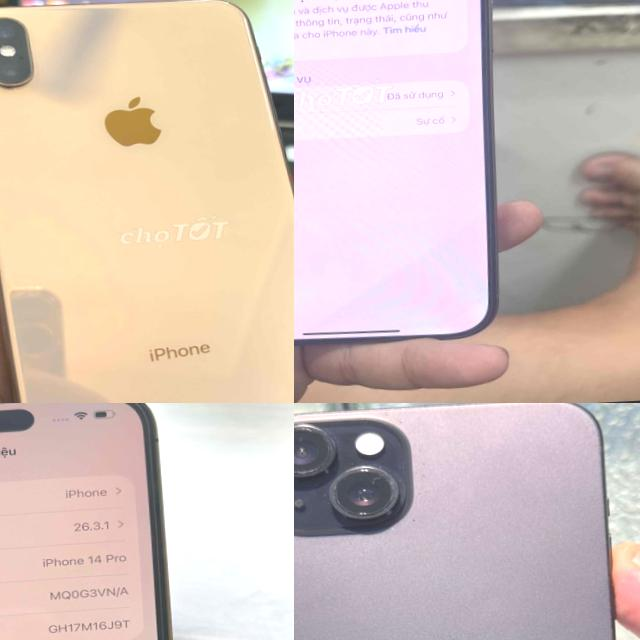gen_14: (0, 403, 194, 640)
gen_15: (294, 403, 640, 640)
gen_16: (294, 0, 497, 346)
gen_x_xs: (0, 0, 294, 403)
scratch: (294, 417, 407, 531)
